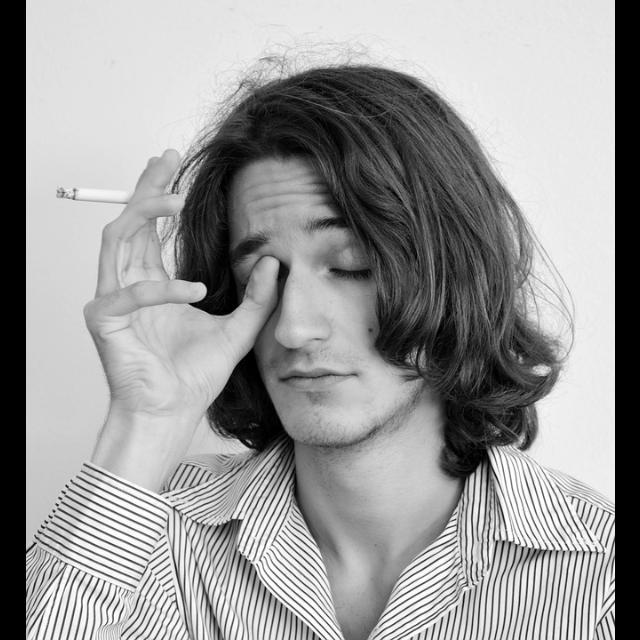rokok: (50, 182, 188, 214)
